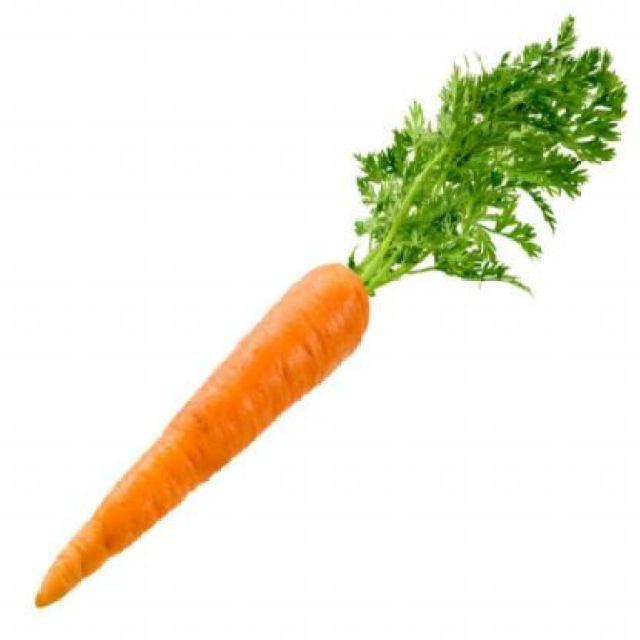carrot: (30, 257, 383, 610)
